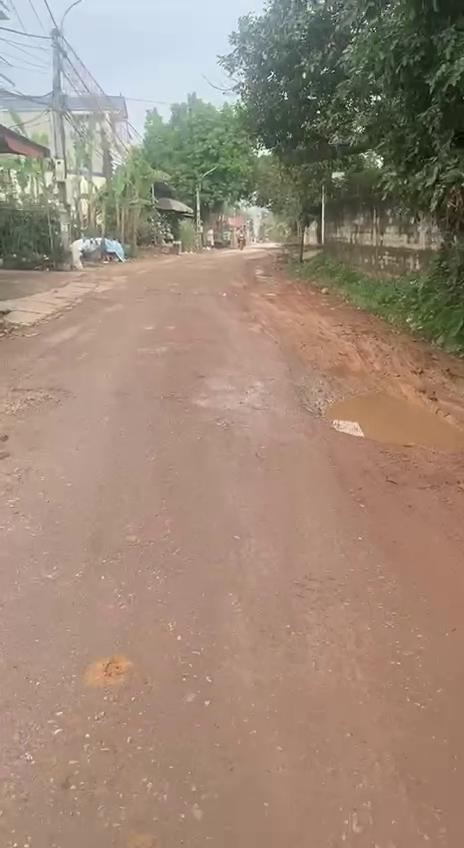pothole: (315, 389, 464, 451), (0, 380, 76, 424)
